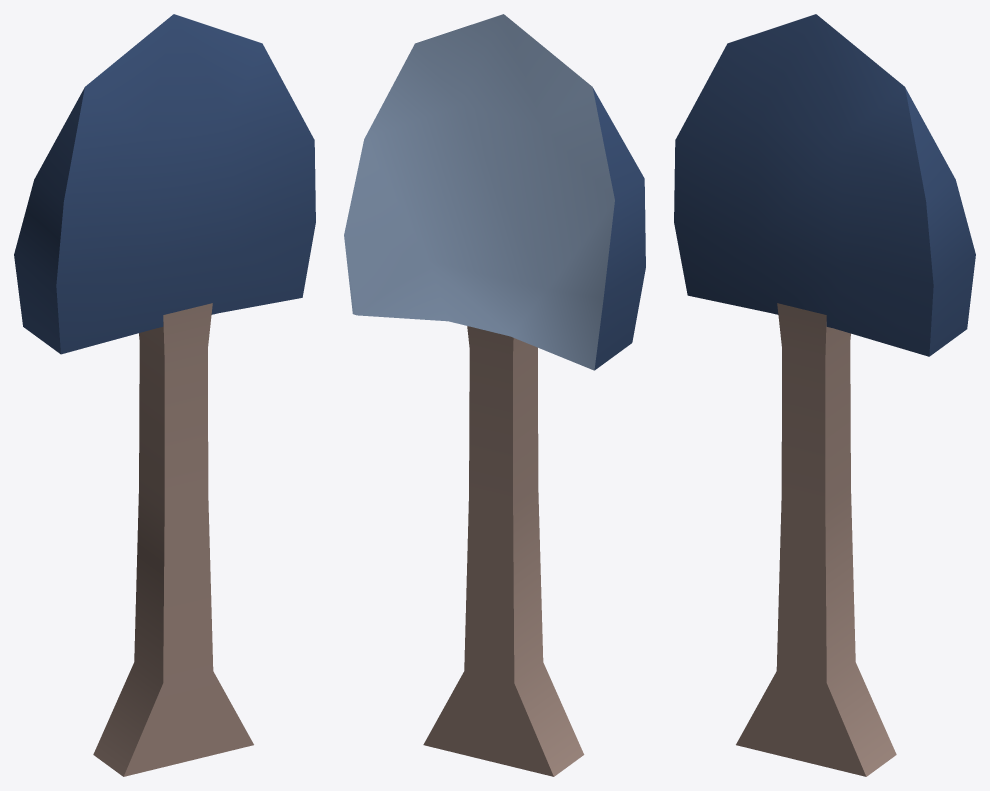
Rendered from Prop_shovel.FBX.
The picture shows the model from 3 angles, left to right: view 1: azimuth 30°, elevation 25°; view 2: azimuth 150°, elevation 25°; view 3: azimuth 330°, elevation 25°; orthographic projection.
Parts seen in each view (by area): view 1: Prop_shovel; view 2: Prop_shovel; view 3: Prop_shovel.
Boxes of the visible parts, x1,y1,x2,y2 form: Prop_shovel: (14,14,315,776); Prop_shovel: (344,14,645,776); Prop_shovel: (674,14,975,776).
Size of the model in its own units: 27.36 by 74.1 by 8.76.
